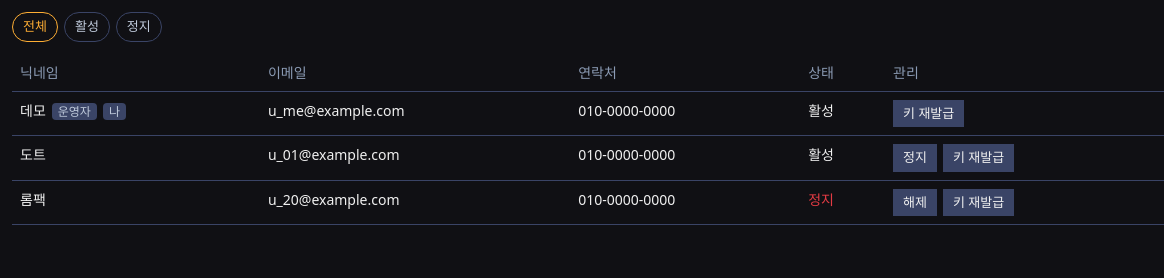
Test case: UsersPanel › 해제는 바로, 키 재발급은 확인 후 보낸다
The image size is (1164, 278).
What coordinates should you click on to do the following:
click the button "해제"
I would click on:
 (915, 202)
Its box is [893,188,937,216].
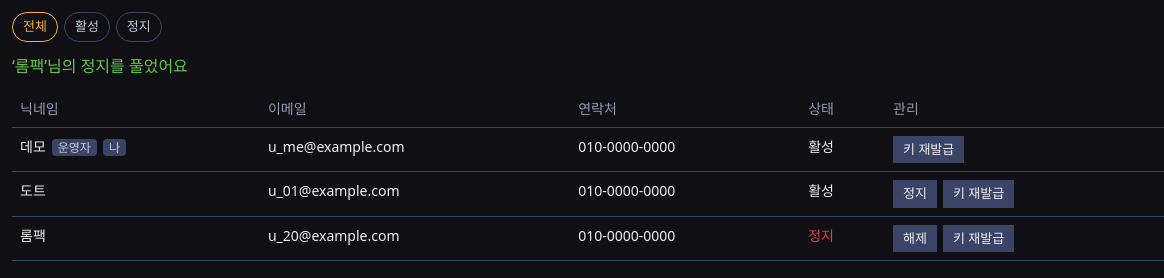
What coordinates should you click on to do the following:
click the button "키 재발급" in the row of "도트"
I would click on:
 (979, 194)
Its box is [943,180,1014,208].
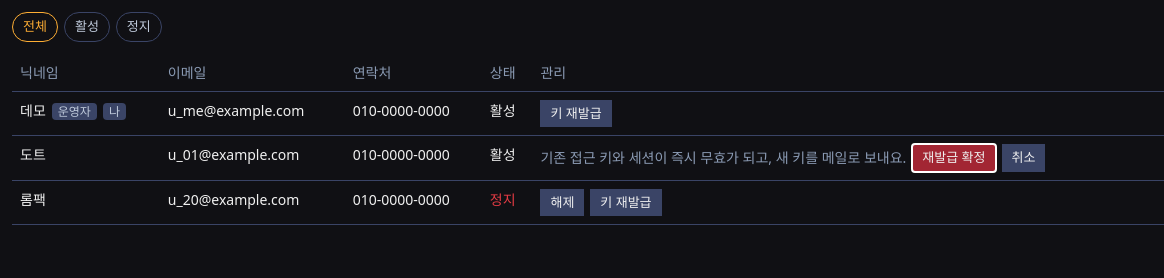
Check: the row with test id "admin-user-row" shows "기존 접근 키와 세션이 즉시 무효", box [540,148,906,167]
What coordinates should you click on to do the following:
click the button "재발급 확정"
I would click on:
 (954, 158)
Its box is [912,144,996,172].
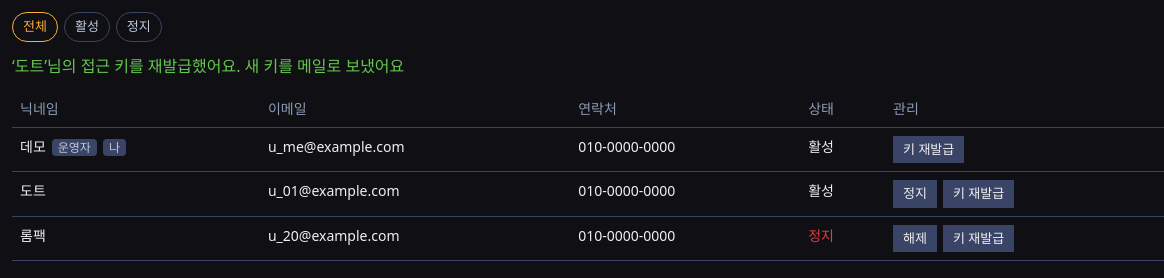
Check: the message shows "접근 키를 재발급했어요", box [12,54,404,76]
